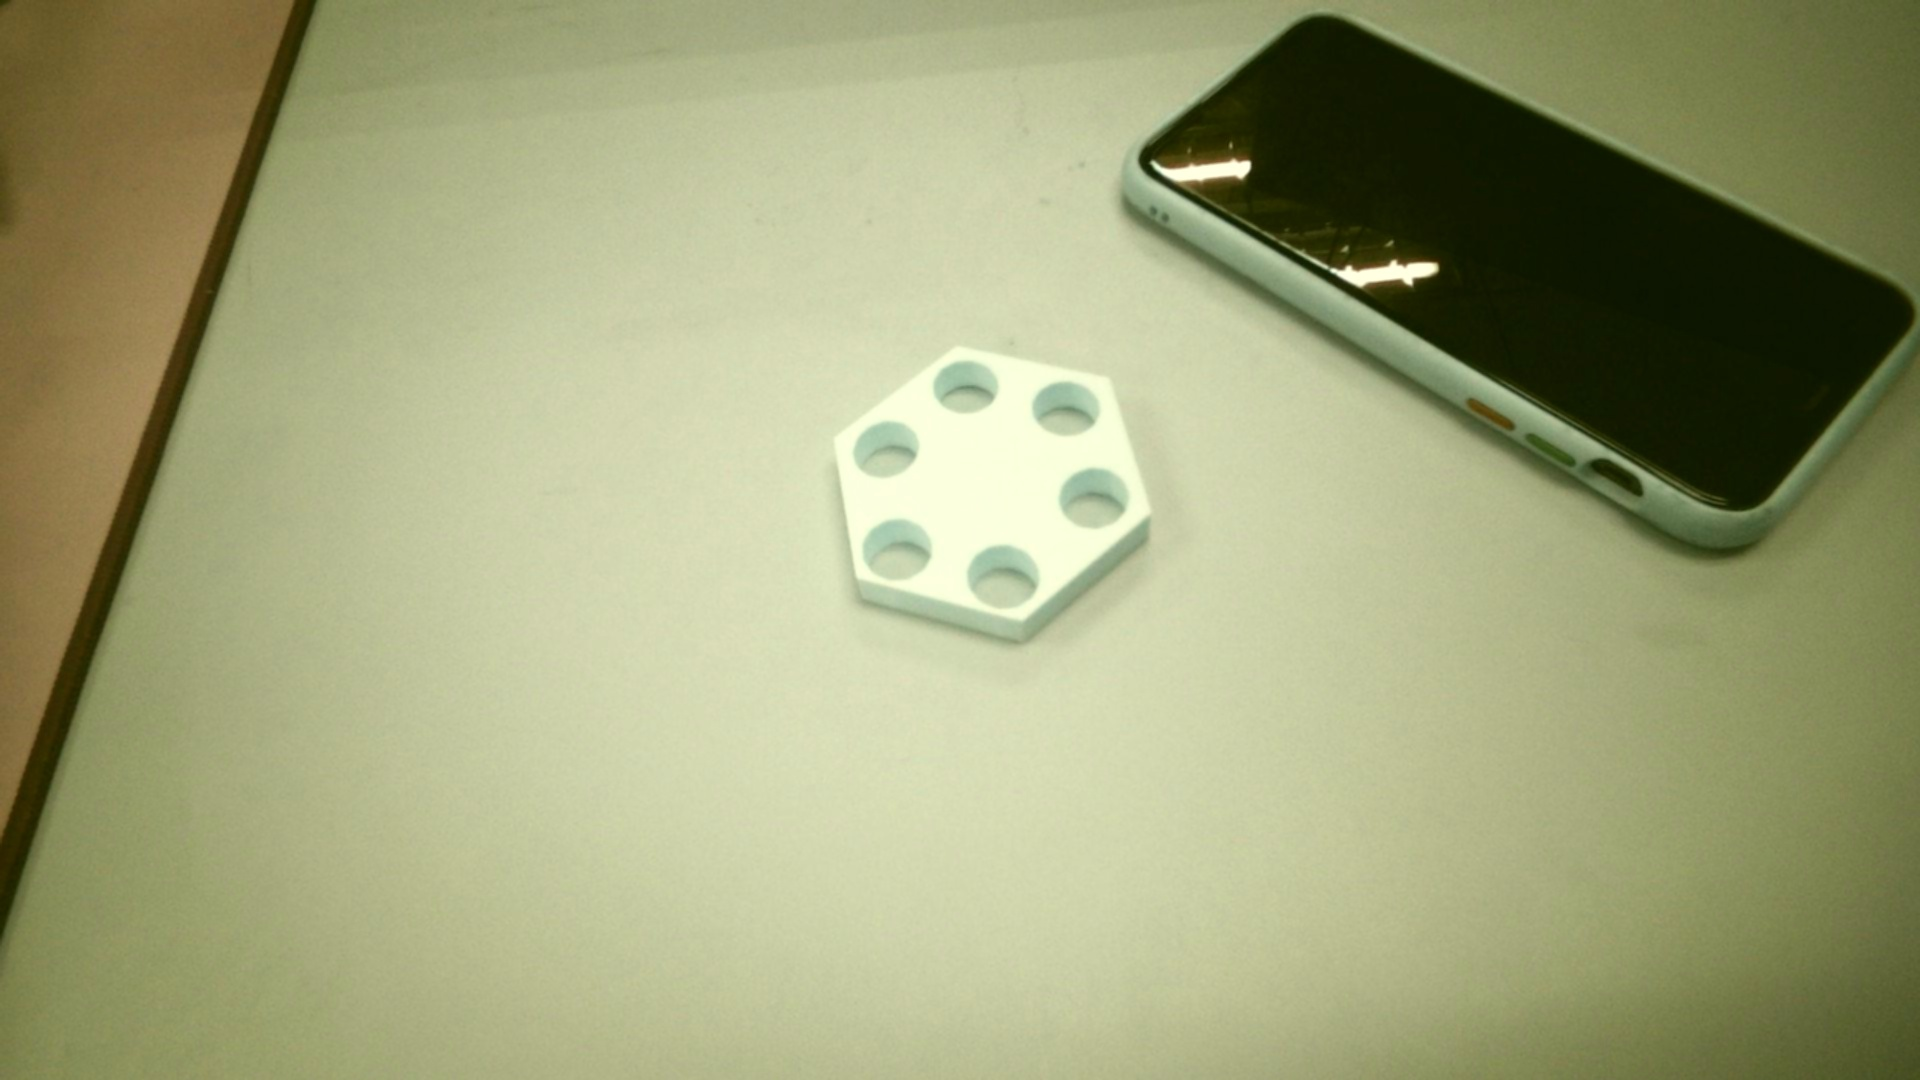hole: (862, 516, 940, 578), (1059, 468, 1131, 530), (852, 417, 926, 477), (1029, 377, 1102, 436), (967, 545, 1036, 605), (938, 355, 994, 414)
obj: (825, 331, 1156, 645)
